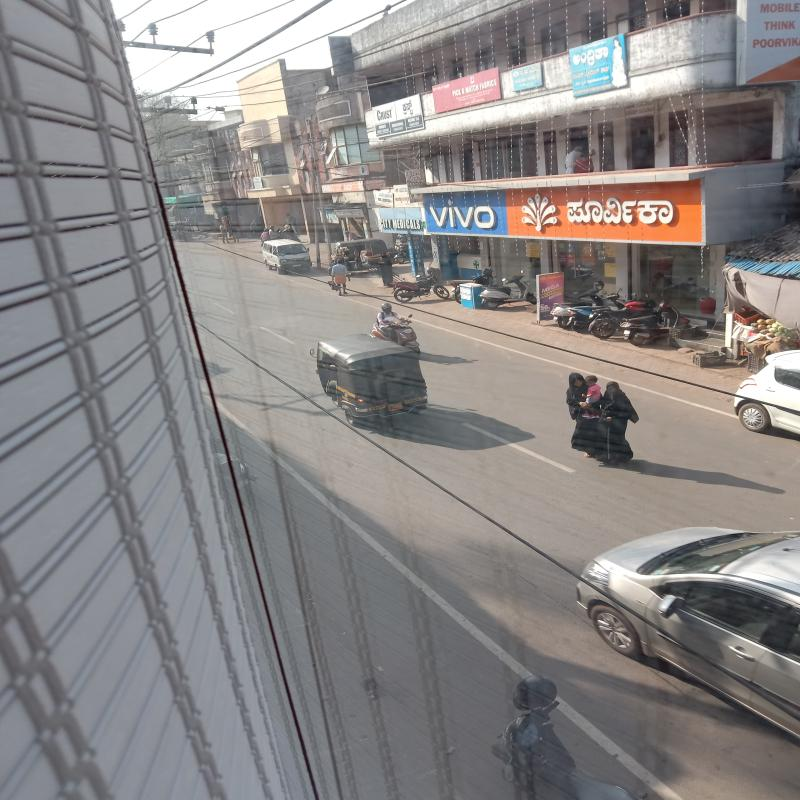auto: (317, 333, 432, 421)
